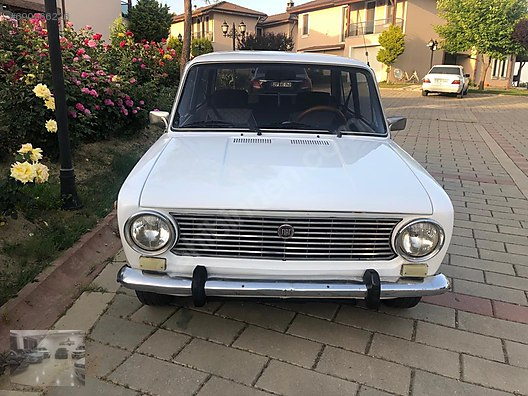murat: (112, 54, 453, 314)
